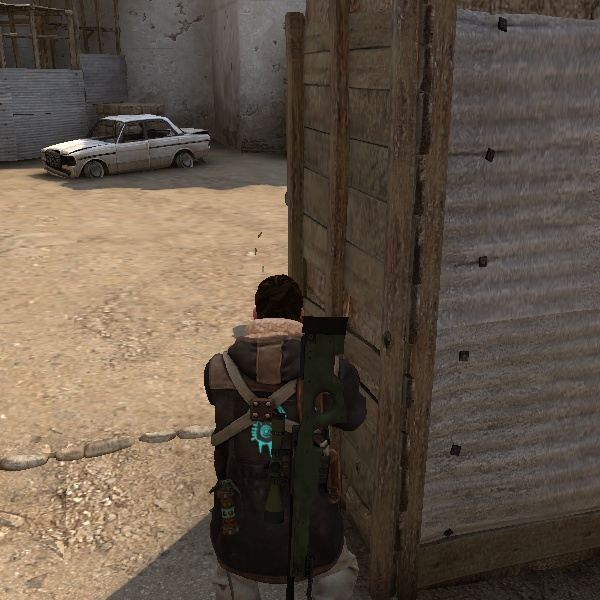t_body: (141, 274, 421, 595)
